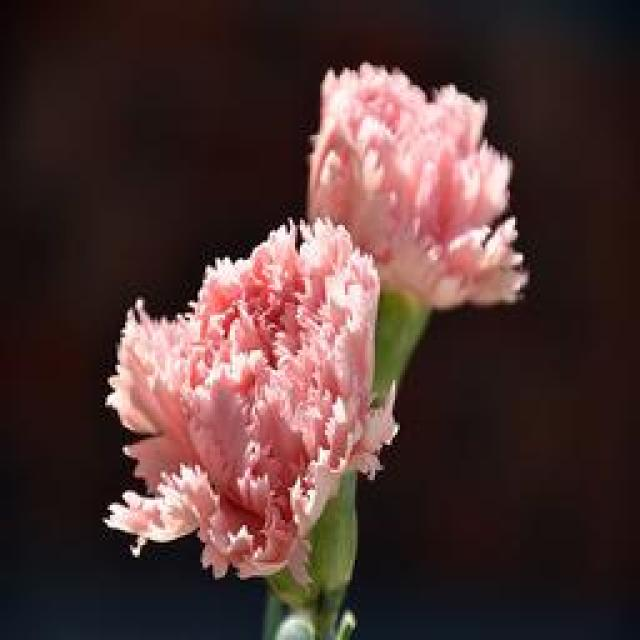carnation: (94, 223, 423, 580)
